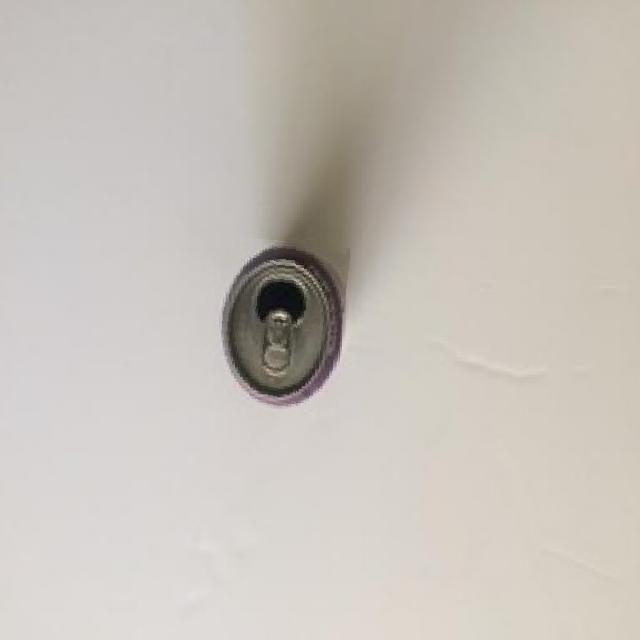recyclable: (217, 239, 346, 409)
